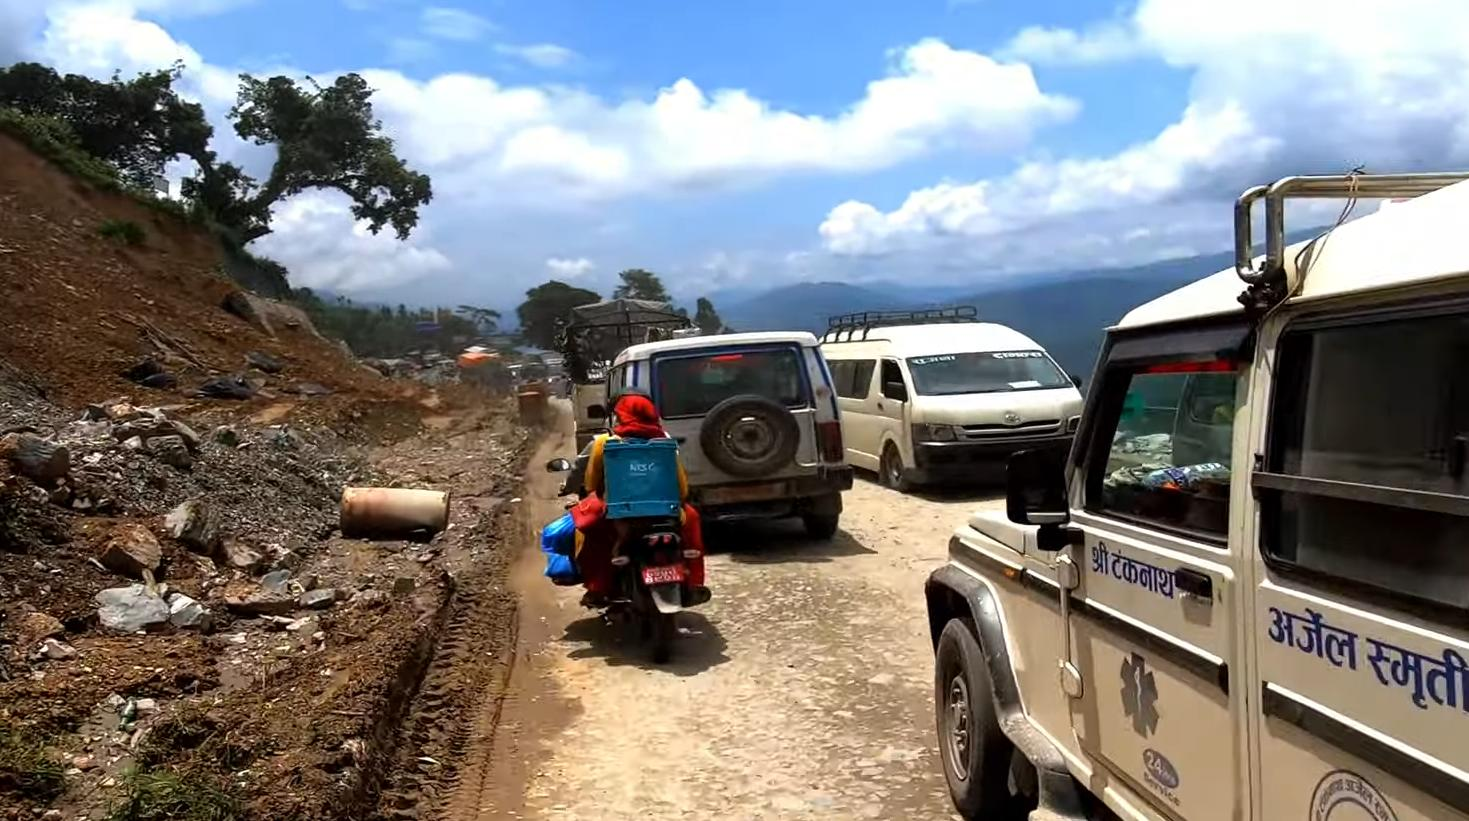ambulance: (905, 137, 1469, 821)
micro_bus: (806, 292, 1088, 494)
